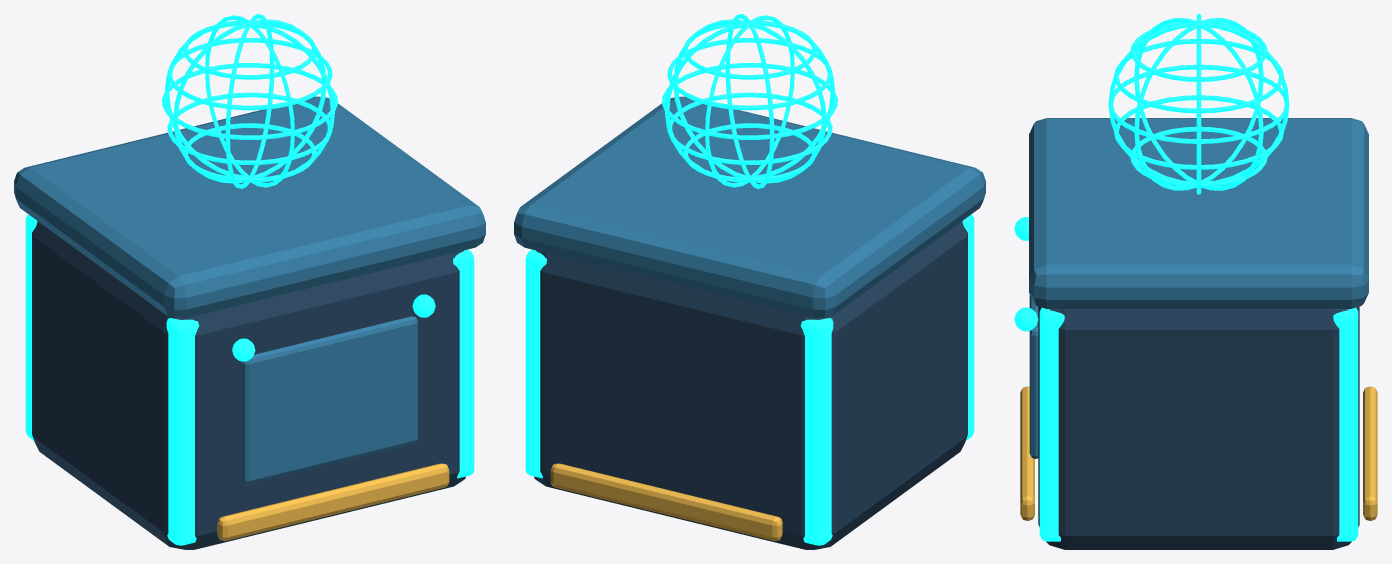
Rendered from power_crate_titan_trap.glb.
3 renders of one model, left to right at view 1: azimuth 30°, elevation 25°; view 2: azimuth 150°, elevation 25°; view 3: azimuth 270°, elevation 25°, orthographic. The views are drawn at different scales.
Visible parts, largest first — view 1: Power crate shell, Upper armored lid, Front cyan panel, Corner armor.001, Safety bumper, Corner armor.003, Holographic net latitude.002, Holographic net latitude.001, Holographic net latitude.003, Corner armor.002, Holographic net latitude, Holographic net latitude.004 (+8 smaller); view 2: Power crate shell, Upper armored lid, Corner armor.002, Safety bumper.001, Corner armor, Holographic net latitude.002, Holographic net latitude.001, Holographic net latitude.003, Corner armor.001, Holographic net latitude, Holographic net latitude.004, Holographic net meridian.004 (+7 smaller); view 3: Power crate shell, Upper armored lid, Corner armor, Corner armor.003, Safety bumper.001, Holographic net latitude.002, Holographic net latitude.001, Holographic net latitude.003, Safety bumper, Front cyan panel, Holographic net latitude, Holographic net latitude.004 (+8 smaller).
Boxes of the visible parts, x1,y1,x2,y2 form: Power crate shell: [32, 221, 465, 549]; Upper armored lid: [14, 96, 485, 318]; Front cyan panel: [241, 316, 417, 484]; Corner armor.001: [166, 318, 199, 545]; Safety bumper: [217, 463, 449, 540]; Corner armor.003: [453, 249, 474, 478]; Holographic net latitude.002: [162, 63, 337, 139]; Holographic net latitude.001: [167, 92, 332, 164]; Holographic net latitude.003: [167, 38, 332, 110]; Corner armor.002: [25, 214, 37, 441]; Holographic net latitude: [185, 123, 316, 182]; Holographic net latitude.004: [183, 24, 316, 79]; Power crate shell: [534, 221, 967, 549]; Upper armored lid: [514, 96, 985, 318]; Corner armor.002: [800, 318, 833, 545]; Safety bumper.001: [550, 463, 782, 540]; Corner armor: [525, 249, 546, 478]; Holographic net latitude.002: [662, 63, 837, 139]; Holographic net latitude.001: [667, 92, 832, 164]; Holographic net latitude.003: [667, 38, 832, 110]; Corner armor.001: [962, 214, 974, 441]; Holographic net latitude: [683, 123, 814, 182]; Holographic net latitude.004: [683, 24, 816, 79]; Holographic net meridian.004: [750, 21, 826, 183]; Power crate shell: [1038, 306, 1359, 549]; Upper armored lid: [1029, 118, 1368, 308]; Corner armor: [1333, 307, 1358, 541]; Corner armor.003: [1039, 307, 1064, 541]; Safety bumper.001: [1363, 386, 1377, 520]; Holographic net latitude.002: [1108, 64, 1289, 143]; Holographic net latitude.001: [1114, 95, 1283, 169]; Holographic net latitude.003: [1114, 39, 1283, 113]; Safety bumper: [1020, 386, 1034, 520]; Front cyan panel: [1029, 294, 1038, 458]; Holographic net latitude: [1130, 126, 1267, 187]; Holographic net latitude.004: [1130, 22, 1267, 81].
Size of the model in its own units: 1.42 by 1.9 by 1.36.
